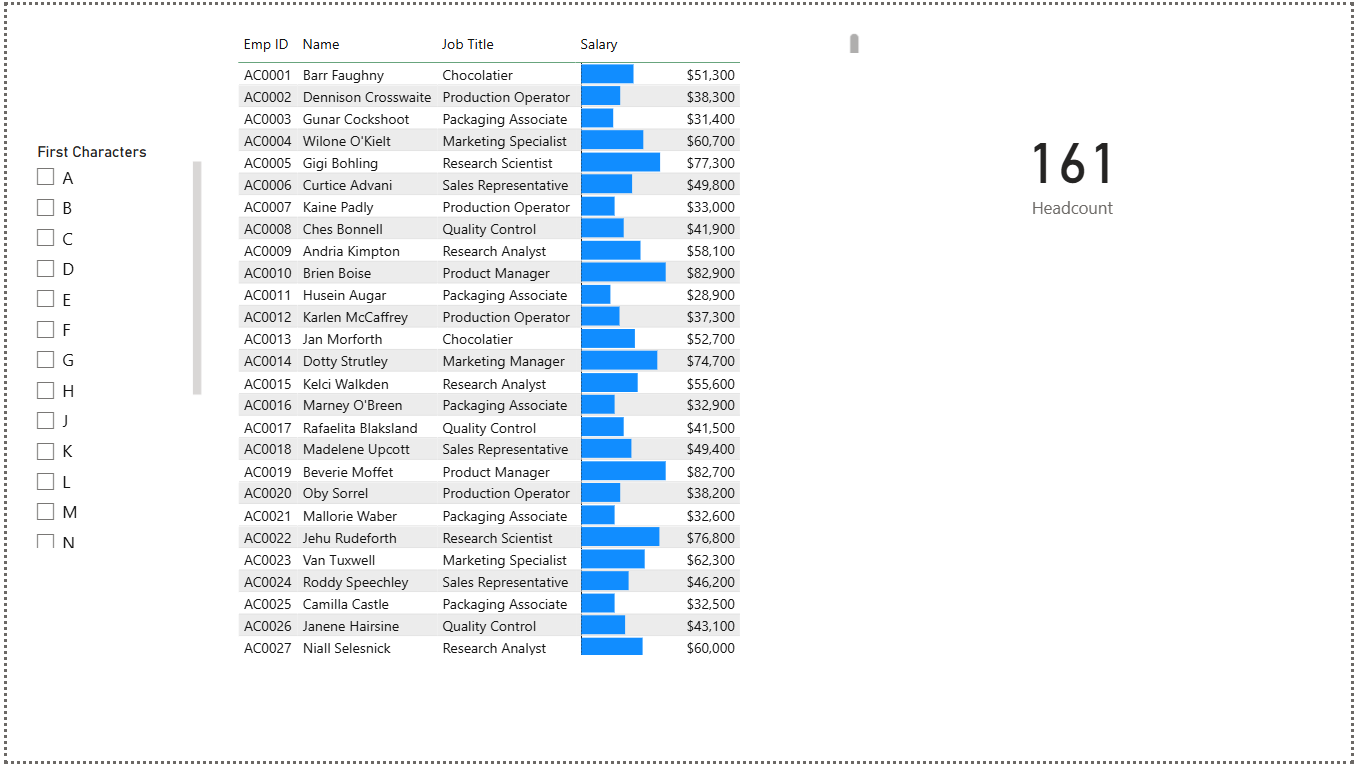

The page's visual inventory and layout, read from the dashboard file:
{"tool":"powerbi","page":{"name":"Page 5","canvas":[1280,720],"ordinal":0},"visuals":[{"type":"slicer","fields":{"Values":["staff.First Characters"]},"box":[15.7,125.7,174.3,395.7],"z":0},{"type":"tableEx","fields":{"Values":["staff.Emp ID","staff.Name","staff.Job Title","staff.Salary"]},"box":[213.7,21.4,602.2,602.2],"z":1000},{"type":"card","fields":{"Values":["staff.Headcount"]},"box":[787.1,45.7,454.3,215.7],"z":2000}]}

Visuals, with their boxes in screenshot pixels (x1, y1, x2, y2), scaled from the page's 1280x720 canvas onto the 1360x766 screenshot:
slicer - staff.First Characters: locate(17, 134, 202, 555)
tableEx - staff.Emp ID x staff.Name: locate(227, 23, 867, 663)
card - staff.Headcount: locate(836, 49, 1319, 278)
